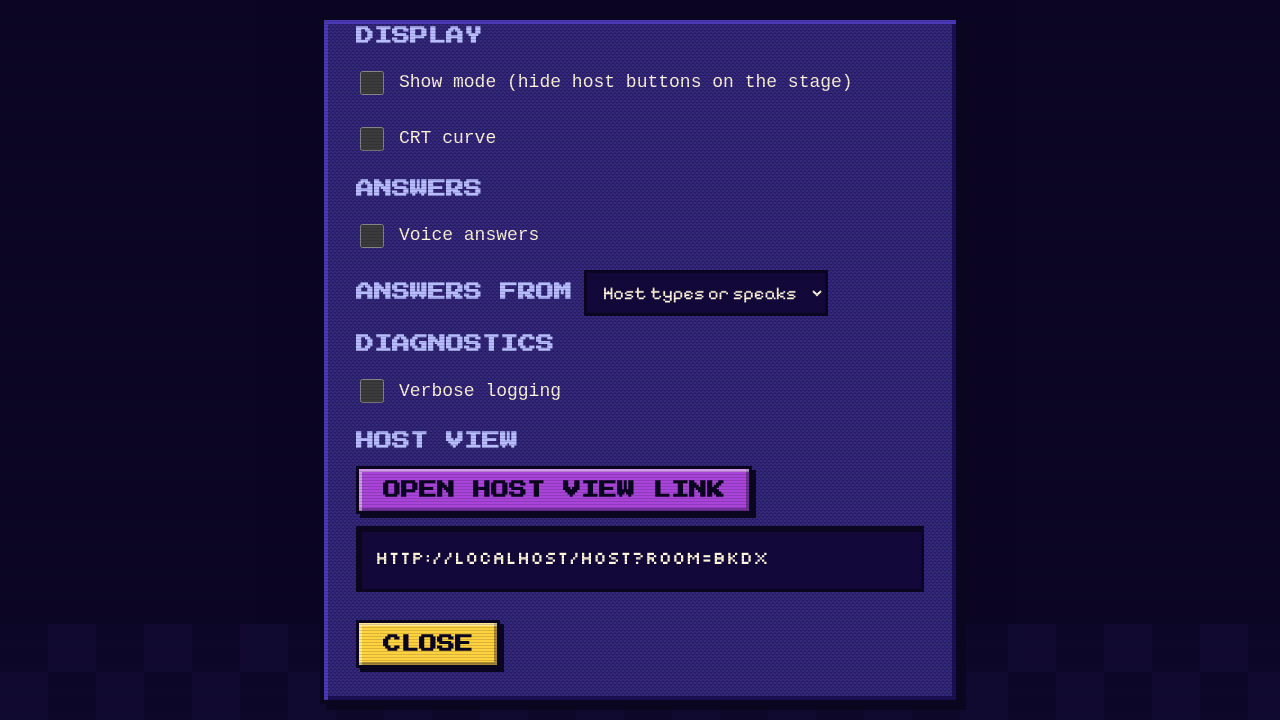
SettingsDialog › copies the host view link for the room
This screenshot has width=1280, height=720.
(page scrolled)
Click the button "Open host view link" at x=554, y=490, box [356,466,752,514]
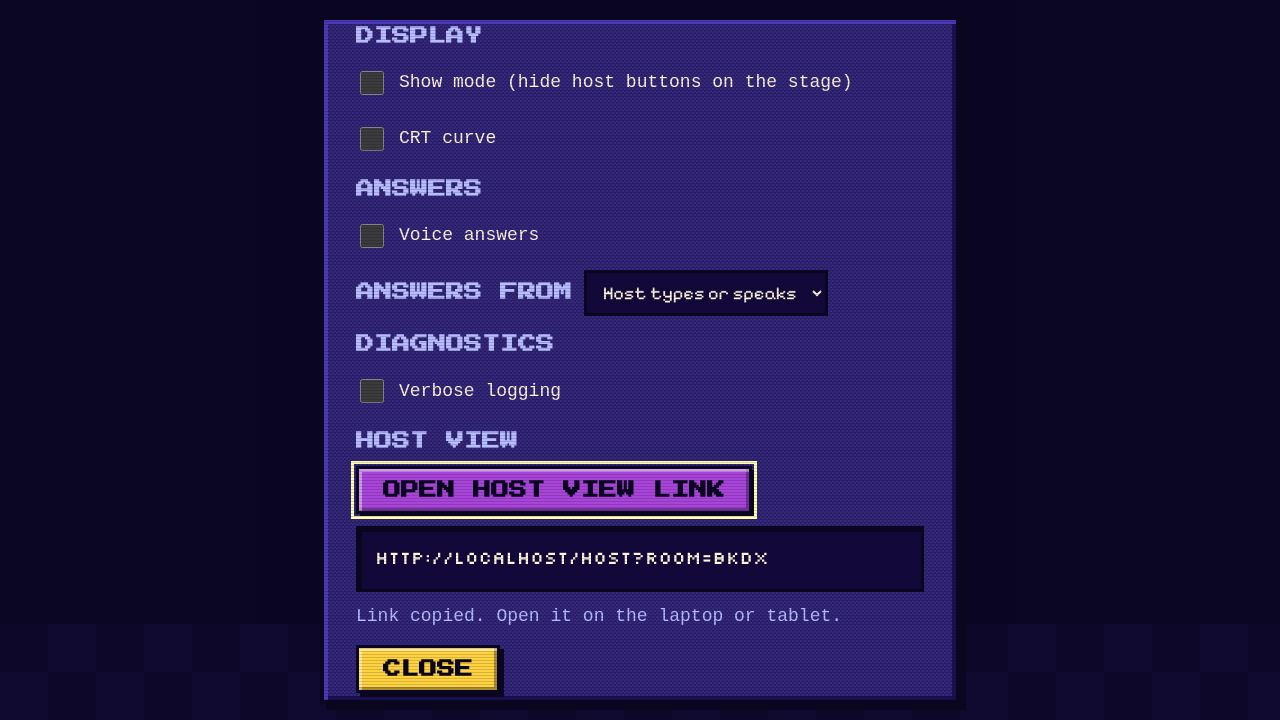
Now the text "Link copied. Open it on the laptop or tablet." is shown, box [356,604,924,629]
